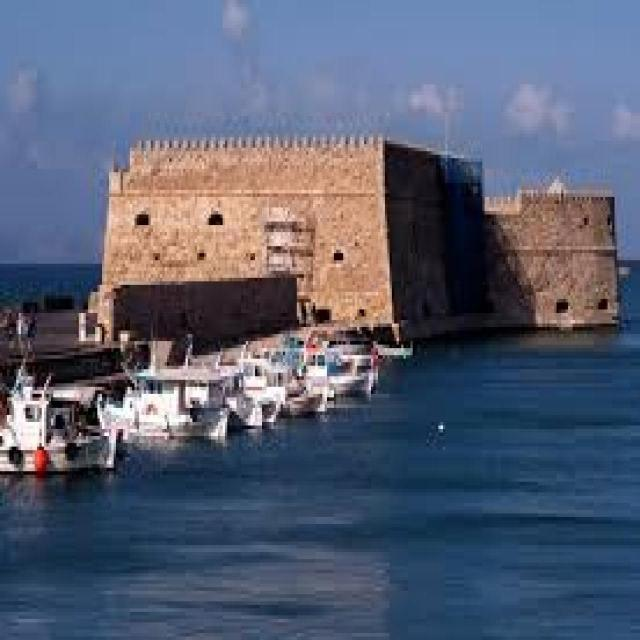Kules: (81, 137, 623, 344)
